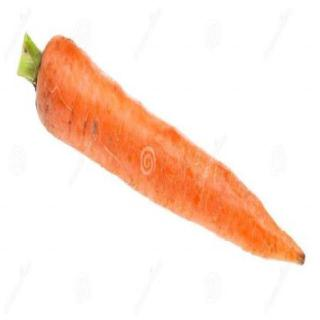carrot: (10, 19, 311, 283)
